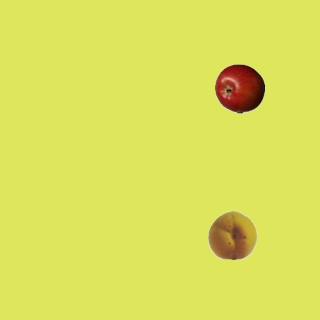Apple Braeburn: (214, 63, 264, 113)
Peach 2: (207, 209, 257, 259)
